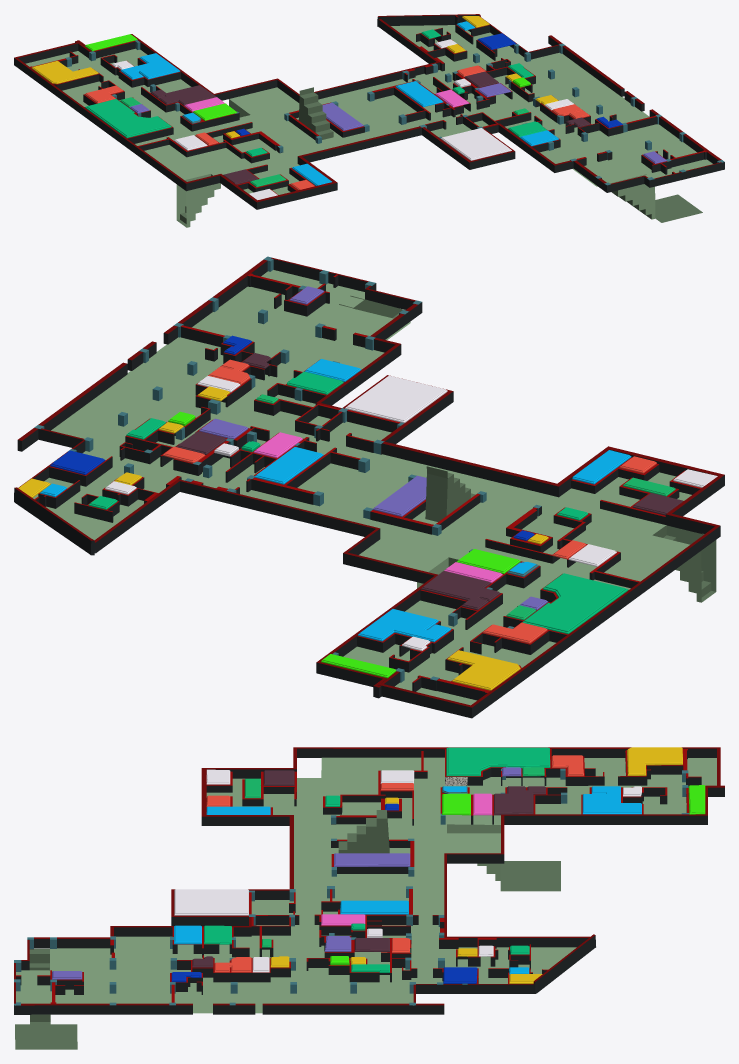
The model's file is TRY4.glb.
3 renders of one model, top to bottom at view 1: azimuth 30°, elevation 25°; view 2: azimuth 150°, elevation 25°; view 3: azimuth 270°, elevation 25°, orthographic. The views are drawn at different scales.
Parts seen in each view (by area): view 1: floor, walls, places, wall top, column; view 2: floor, walls, places, wall top, column; view 3: floor, walls, places, wall top, column.
Part boxes in pixels (x1,y1,x2,y2): floor: (25,25,712,227); walls: (14,15,724,209); places: (31,16,666,200); wall top: (14,14,721,202); column: (65,36,724,185); floor: (33,270,716,705); walls: (14,259,724,718); places: (18,286,717,690); wall top: (15,257,724,707); column: (34,256,548,682); floor: (15,757,716,1049); walls: (14,748,724,1014); places: (52,747,705,983); wall top: (14,747,724,1005); column: (14,768,689,1005).
Size of what is drawn, in the model's own units: 30.71 by 5.11 by 35.74.
